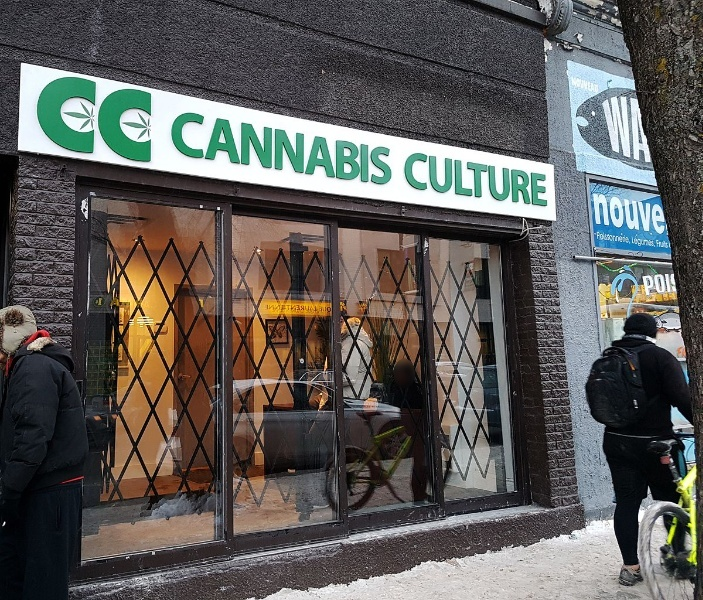text: (49, 70, 64, 163), (65, 70, 80, 163), (81, 70, 96, 163), (97, 70, 112, 163), (113, 70, 128, 163), (129, 70, 144, 163), (177, 108, 192, 187), (193, 108, 208, 187), (209, 108, 224, 187), (225, 108, 240, 187), (241, 108, 256, 187), (257, 108, 272, 187), (273, 108, 288, 187), (289, 108, 304, 187), (305, 108, 320, 187), (321, 108, 336, 187), (337, 108, 352, 187), (353, 108, 368, 187), (369, 108, 384, 187), (609, 95, 624, 166), (625, 95, 640, 166), (37, 70, 48, 163), (641, 95, 654, 166), (417, 151, 432, 207), (433, 151, 448, 207), (449, 151, 464, 207), (465, 151, 480, 207), (481, 151, 496, 207), (497, 151, 512, 207), (513, 151, 528, 207), (529, 151, 544, 207), (385, 108, 394, 187), (404, 151, 416, 207), (145, 70, 152, 163), (593, 192, 608, 235), (609, 192, 624, 235), (625, 192, 640, 235), (641, 192, 656, 235), (600, 95, 608, 166), (657, 192, 667, 235), (171, 108, 176, 187), (642, 273, 656, 296), (657, 273, 671, 296), (577, 76, 592, 92), (609, 229, 624, 244), (641, 233, 655, 248), (273, 301, 288, 313), (289, 301, 304, 313), (305, 301, 320, 313), (545, 151, 548, 207), (597, 229, 608, 244), (657, 239, 672, 249), (631, 233, 640, 248), (321, 301, 332, 313), (625, 229, 632, 244), (593, 76, 599, 92), (571, 76, 576, 92), (266, 301, 272, 313)
